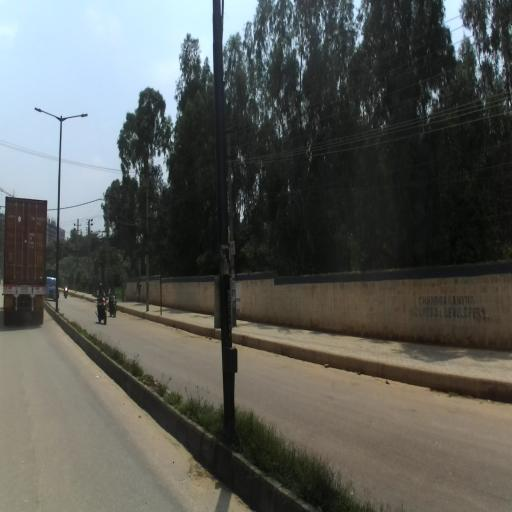street_light_0: (34, 107, 63, 121), (58, 112, 88, 122)
